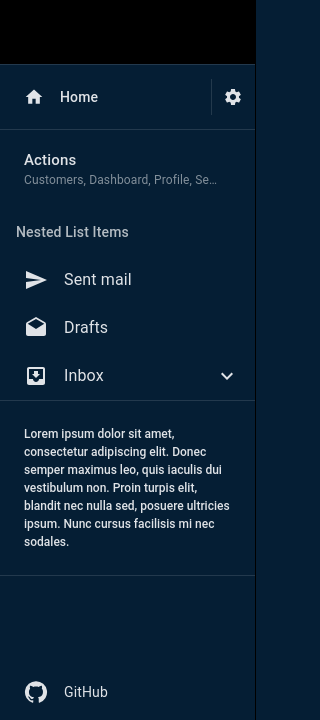
Scenario: When the SideMenu component is loaded › it should show a list of buttons when user clicks on the actions button
Step 1. Click the button "Actions Customers, Dashboard, Profile, Settings" → coordinates (50, 160), box top-left (24, 151), bottom-right (240, 187)
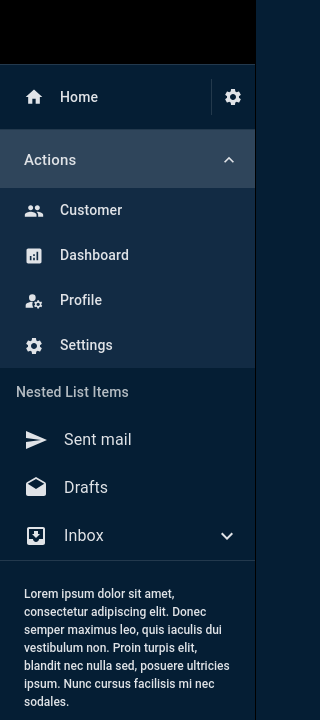
Now the button "Customer" is shown, box top-left (24, 200), bottom-right (122, 220)
Now the button "Dashboard" is shown, box top-left (24, 246), bottom-right (129, 266)
Now the button "Profile" is shown, box top-left (24, 290), bottom-right (102, 310)
